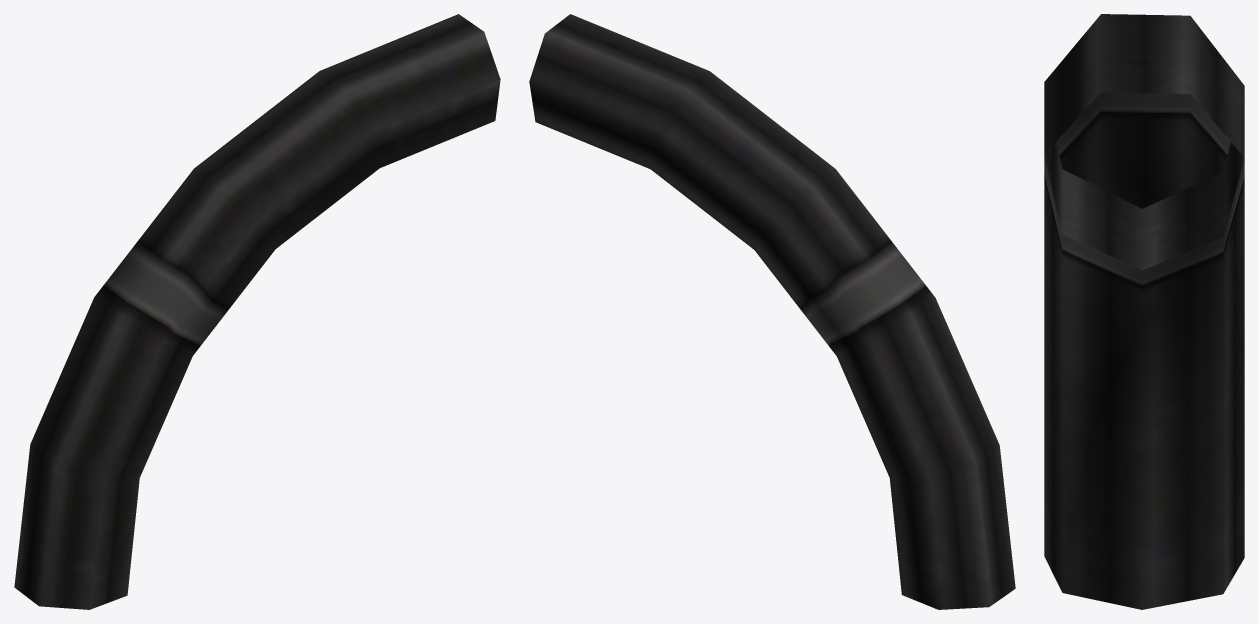
File: lab_thick_turn_90_small.dae
The picture shows the model from 3 angles, left to right: view 1: azimuth 30°, elevation 25°; view 2: azimuth 150°, elevation 25°; view 3: azimuth 270°, elevation 25°; orthographic projection. The views are drawn at different scales.
Visible parts, largest first — view 1: turn_90_small; view 2: turn_90_small; view 3: turn_90_small.
Part boxes in pixels (left/top/right/bottom): turn_90_small: left=14, top=14, right=500, bottom=609; turn_90_small: left=529, top=14, right=1015, bottom=609; turn_90_small: left=1044, top=14, right=1244, bottom=609.
Bounding box in the file's own units: 0.5614 × 0.5614 × 0.1254.
